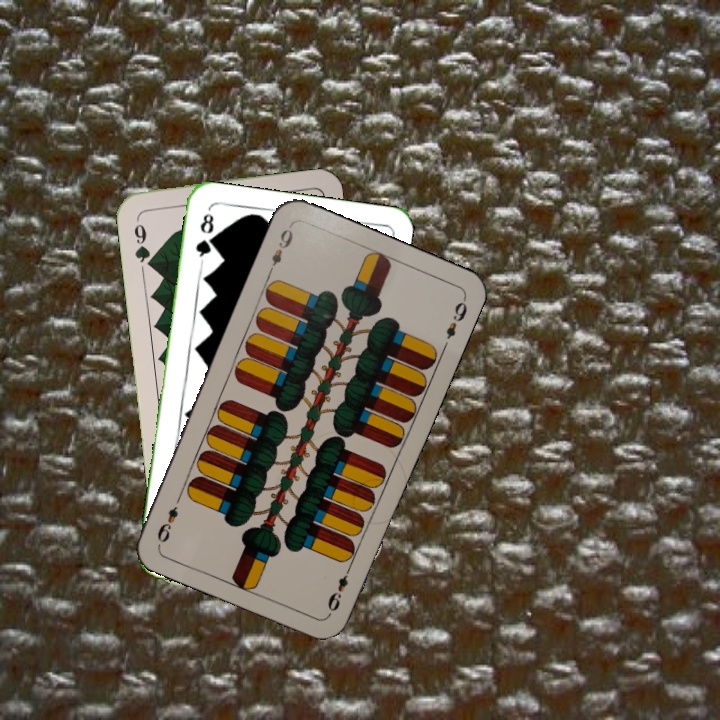E9: (264, 221, 296, 277), (323, 561, 354, 614)
G8: (192, 209, 217, 265)
G9: (130, 214, 156, 272)
